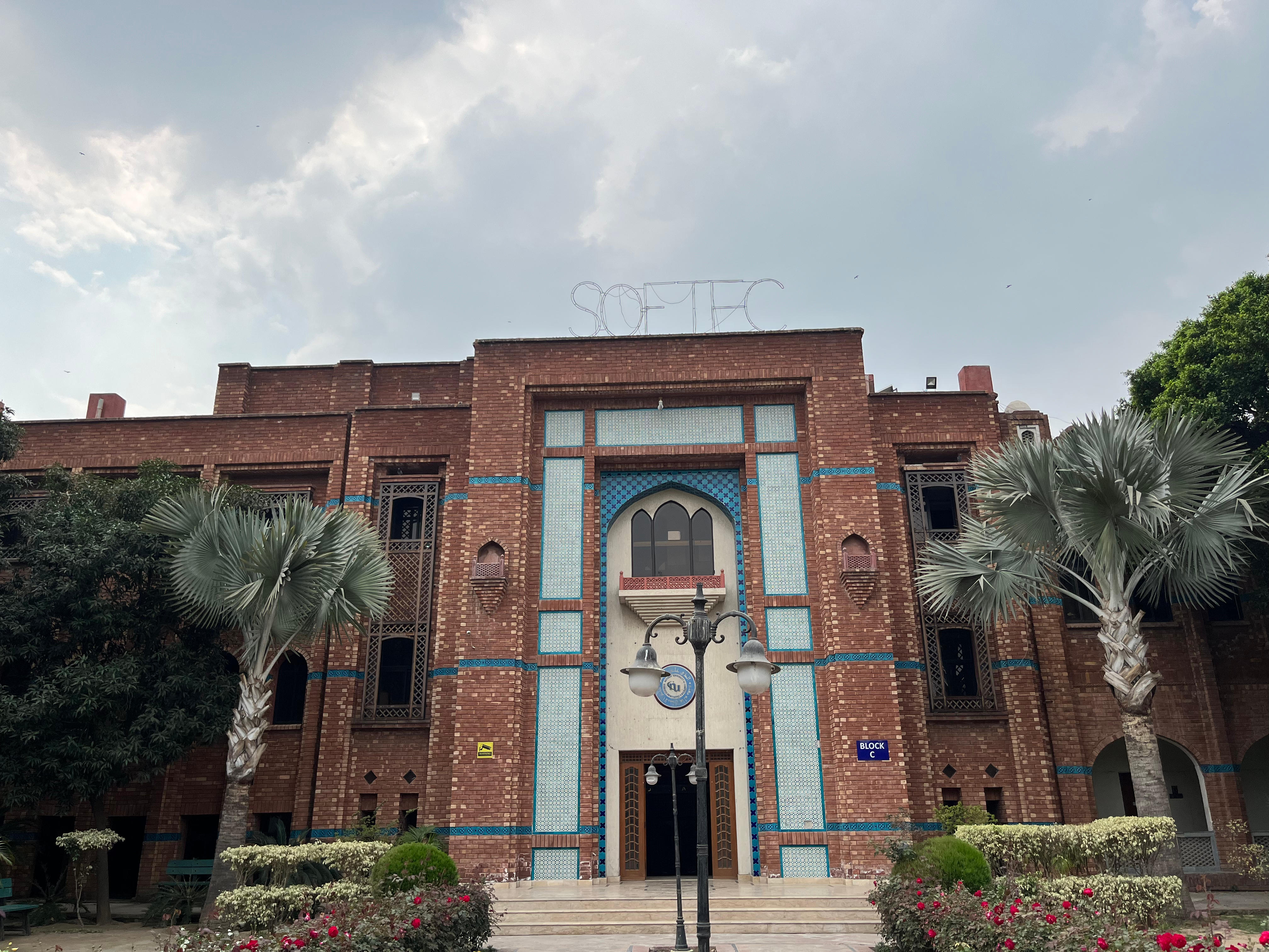Block C: (5, 277, 1269, 921)
